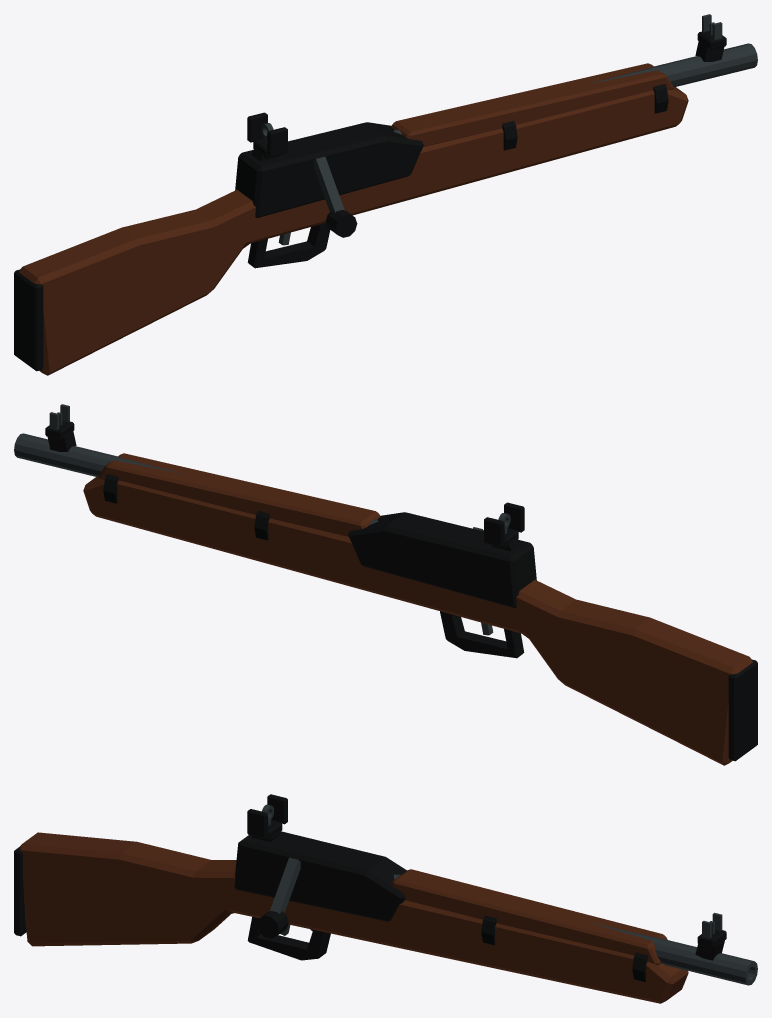
File: CE_Gun_M1917Enfield.obj
The picture shows the model from 3 angles, top to bottom: view 1: azimuth 30°, elevation 25°; view 2: azimuth 150°, elevation 25°; view 3: azimuth 330°, elevation 25°; orthographic projection.
Visible parts, largest first — view 1: M1917Enfield_individually_shaped_stock_and_bedding, M1917Enfield_contoured_receiver, M1917Enfield_upper_wooden_handguard, Contoured_butt_plate, Hollow_gun_barrel, Shaped_trigger_guard, Enfield_bolt_handle, Bolt_ball; view 2: M1917Enfield_individually_shaped_stock_and_bedding, M1917Enfield_contoured_receiver, M1917Enfield_upper_wooden_handguard, Contoured_butt_plate, Hollow_gun_barrel, Shaped_trigger_guard; view 3: M1917Enfield_individually_shaped_stock_and_bedding, M1917Enfield_contoured_receiver, M1917Enfield_upper_wooden_handguard, Hollow_gun_barrel, Shaped_trigger_guard, Contoured_butt_plate, Enfield_bolt_handle, Bolt_ball, Enfield_protected_rear_sight.001, Enfield_protected_rear_sight, Barrel_retaining_band.001, Barrel_retaining_band.
Boxes of the visible parts, x1=… form: M1917Enfield_individually_shaped_stock_and_bedding: x1=19, y1=87, x2=688, y2=375; M1917Enfield_contoured_receiver: x1=235, y1=122, x2=423, y2=217; M1917Enfield_upper_wooden_handguard: x1=391, y1=63, x2=673, y2=146; Contoured_butt_plate: x1=14, y1=269, x2=43, y2=371; Hollow_gun_barrel: x1=393, y1=43, x2=757, y2=134; Shaped_trigger_guard: x1=247, y1=223, x2=330, y2=268; Enfield_bolt_handle: x1=314, y1=156, x2=344, y2=212; Bolt_ball: x1=325, y1=210, x2=357, y2=237; M1917Enfield_individually_shaped_stock_and_bedding: x1=83, y1=477, x2=752, y2=765; M1917Enfield_contoured_receiver: x1=348, y1=512, x2=536, y2=607; M1917Enfield_upper_wooden_handguard: x1=98, y1=453, x2=380, y2=536; Contoured_butt_plate: x1=728, y1=659, x2=757, y2=761; Hollow_gun_barrel: x1=14, y1=433, x2=378, y2=524; Shaped_trigger_guard: x1=440, y1=611, x2=524, y2=658; M1917Enfield_individually_shaped_stock_and_bedding: x1=19, y1=832, x2=688, y2=1003; M1917Enfield_contoured_receiver: x1=234, y1=831, x2=406, y2=921; M1917Enfield_upper_wooden_handguard: x1=391, y1=869, x2=667, y2=965; Hollow_gun_barrel: x1=393, y1=874, x2=757, y2=985; Shaped_trigger_guard: x1=247, y1=917, x2=330, y2=960; Contoured_butt_plate: x1=14, y1=847, x2=26, y2=936; Enfield_bolt_handle: x1=269, y1=857, x2=300, y2=913; Bolt_ball: x1=257, y1=911, x2=288, y2=938; Enfield_protected_rear_sight.001: x1=247, y1=809, x2=267, y2=838; Enfield_protected_rear_sight: x1=267, y1=794, x2=287, y2=824; Barrel_retaining_band.001: x1=632, y1=952, x2=647, y2=982; Barrel_retaining_band: x1=481, y1=915, x2=496, y2=945.
Bounding box in the file's own units: 1.47 × 0.3718 × 0.1805.
